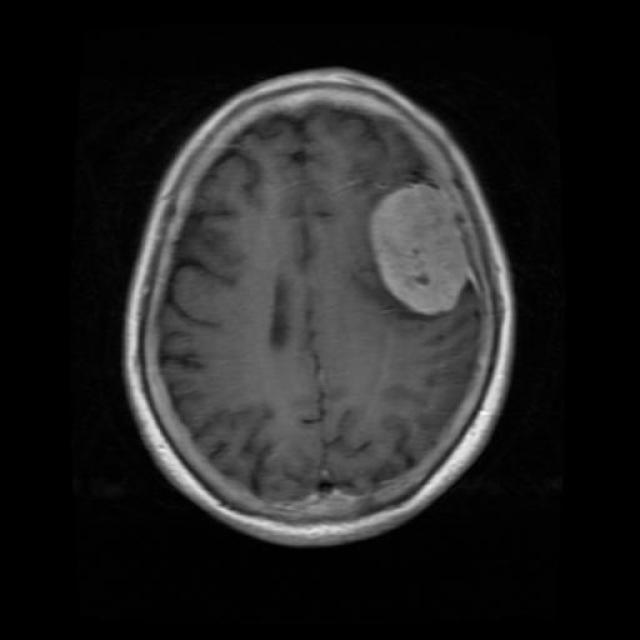meningioma: (371, 185, 474, 316)
